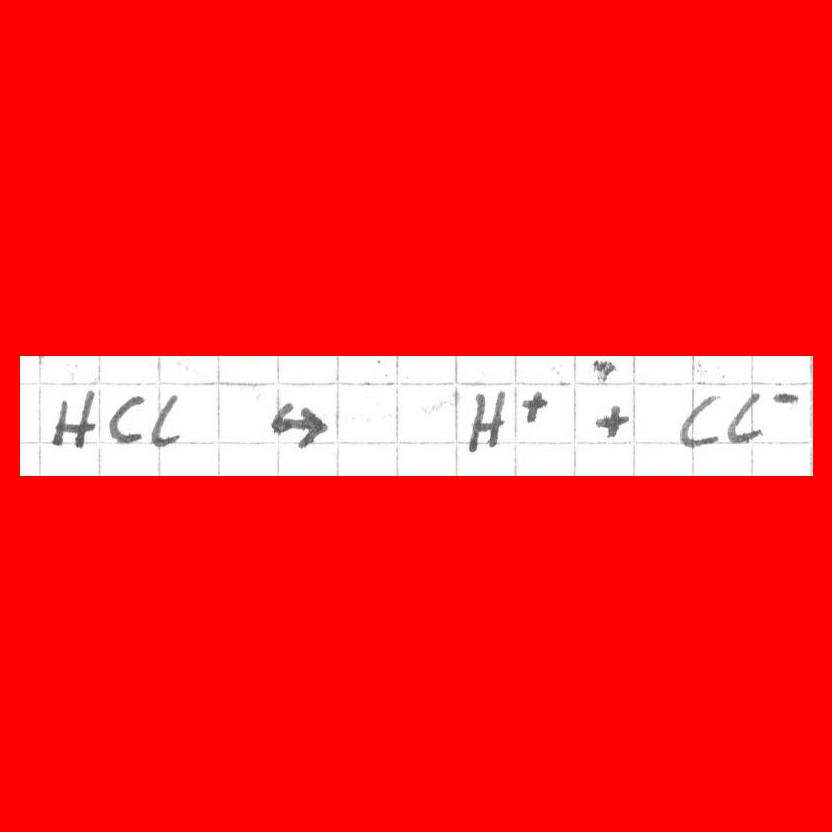Char: (267, 400, 332, 448), (675, 391, 723, 452), (465, 388, 509, 453), (51, 390, 97, 449), (108, 391, 147, 447), (727, 391, 765, 445), (149, 392, 184, 448), (594, 401, 631, 443), (520, 388, 549, 426), (591, 356, 616, 385), (770, 390, 802, 407)
